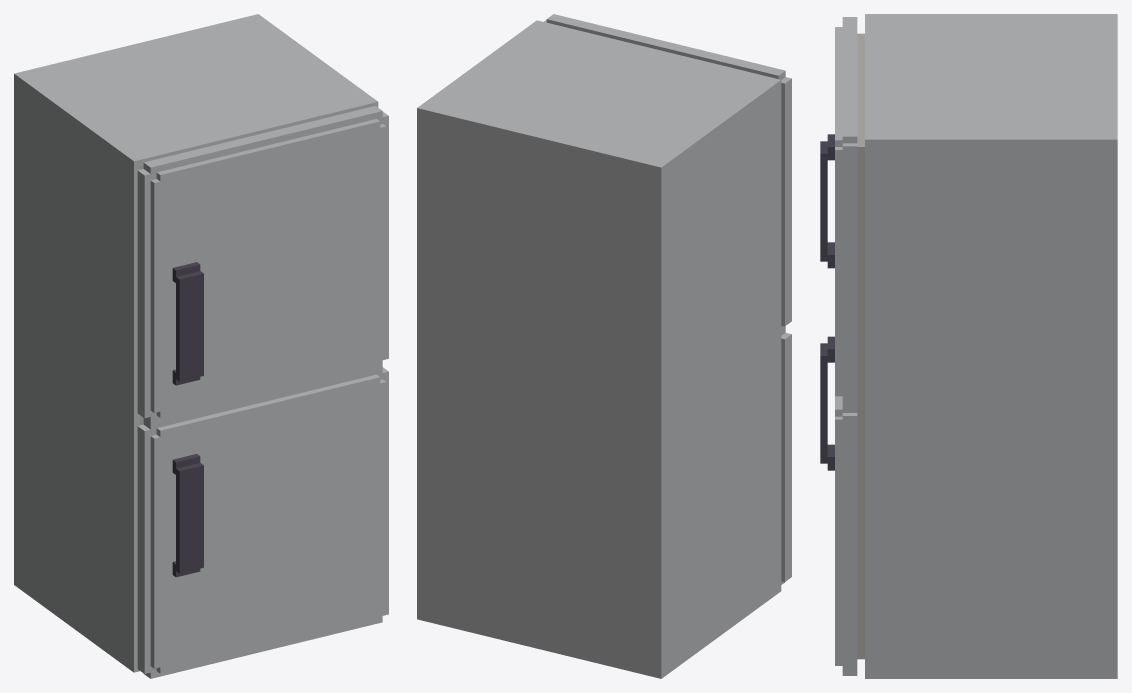
File: Fridge.fbx
3 views of the same model, side by side, from view 1: azimuth 30°, elevation 25°; view 2: azimuth 150°, elevation 25°; view 3: azimuth 270°, elevation 25° (orthographic). The views are drawn at different scales.
Visible parts, largest first — view 1: Fridge; view 2: Fridge; view 3: Fridge.
Boxes of the visible parts, x1=… form: Fridge: x1=14, y1=14, x2=388, y2=678; Fridge: x1=417, y1=14, x2=791, y2=678; Fridge: x1=820, y1=14, x2=1117, y2=678.
Bounding box in the file's own units: 250 × 500 × 250.
